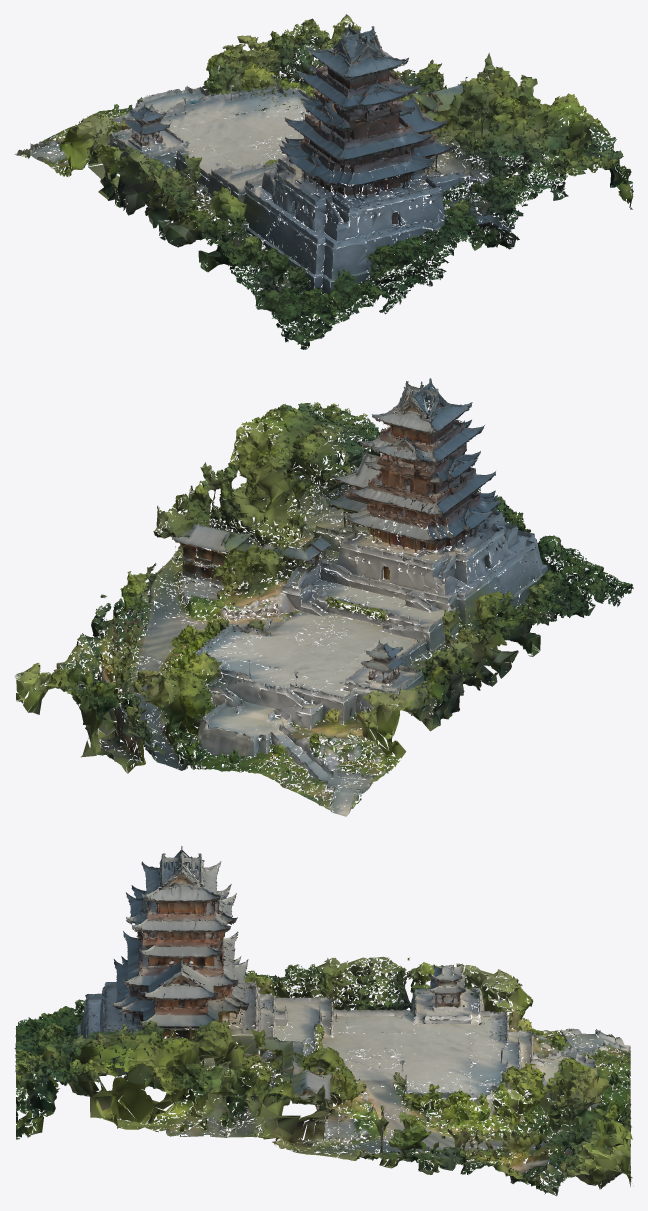
Rendered from langya.glb.
3 views of the same model, one above another, from view 1: azimuth 30°, elevation 25°; view 2: azimuth 150°, elevation 25°; view 3: azimuth 270°, elevation 25° (orthographic). The views are drawn at different scales.
Parts seen in each view (by area): view 1: Object_2; view 2: Object_2; view 3: Object_2.
Part boxes in pixels (x1=…): Object_2: x1=14, y1=14, x2=633, y2=349; Object_2: x1=15, y1=378, x2=633, y2=816; Object_2: x1=14, y1=846, x2=632, y2=1196.
Bounding box in the file's own units: 215 × 159 × 323.
Materials: 1 (1 with a texture image).
